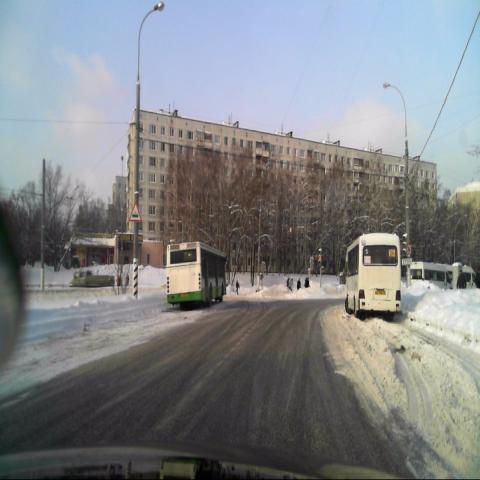1_5: (129, 202, 142, 223)
